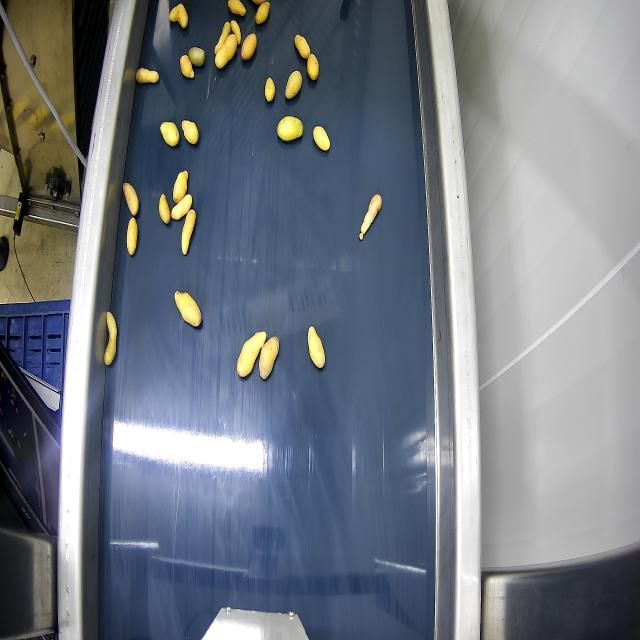Baby Potato: (237, 331, 266, 377), (359, 194, 381, 240), (175, 291, 201, 327), (259, 336, 278, 379), (215, 34, 237, 69), (308, 327, 325, 368), (181, 209, 196, 255), (277, 116, 303, 141), (104, 312, 116, 366), (171, 194, 192, 220), (214, 22, 231, 54), (172, 170, 188, 203), (123, 183, 138, 215), (160, 121, 179, 146), (169, 3, 187, 28), (285, 71, 301, 99), (241, 33, 256, 60), (313, 126, 329, 151), (182, 120, 198, 144), (127, 217, 137, 255), (295, 35, 310, 59), (159, 193, 170, 223), (136, 68, 158, 83), (180, 55, 194, 78), (188, 47, 204, 66), (256, 0, 269, 23), (307, 54, 318, 80), (228, 0, 245, 15), (265, 77, 275, 102), (231, 20, 241, 45), (253, 0, 265, 5)
